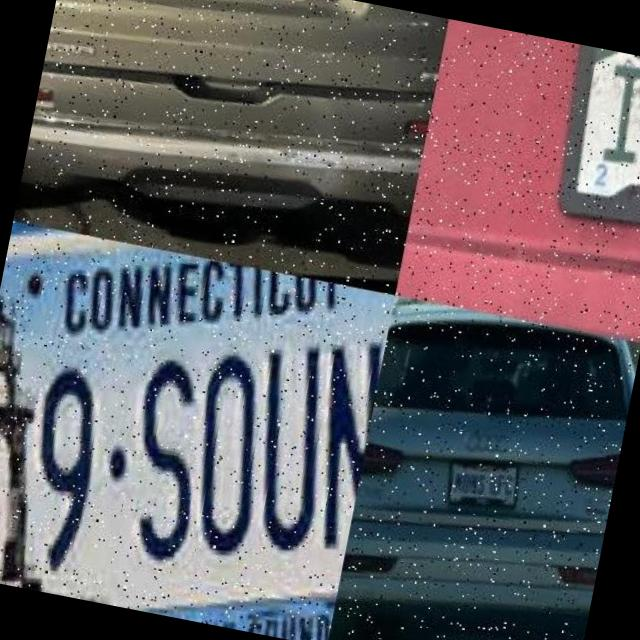LicensePlate: (0, 217, 396, 640), (439, 452, 522, 516)
